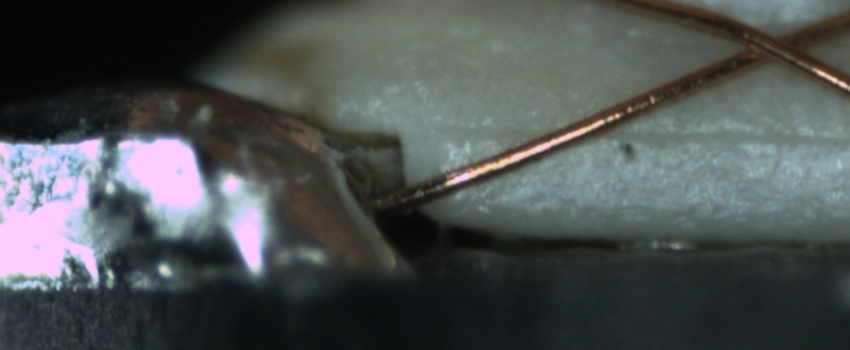CL: (724, 16, 822, 74)
DL: (439, 101, 850, 173)
